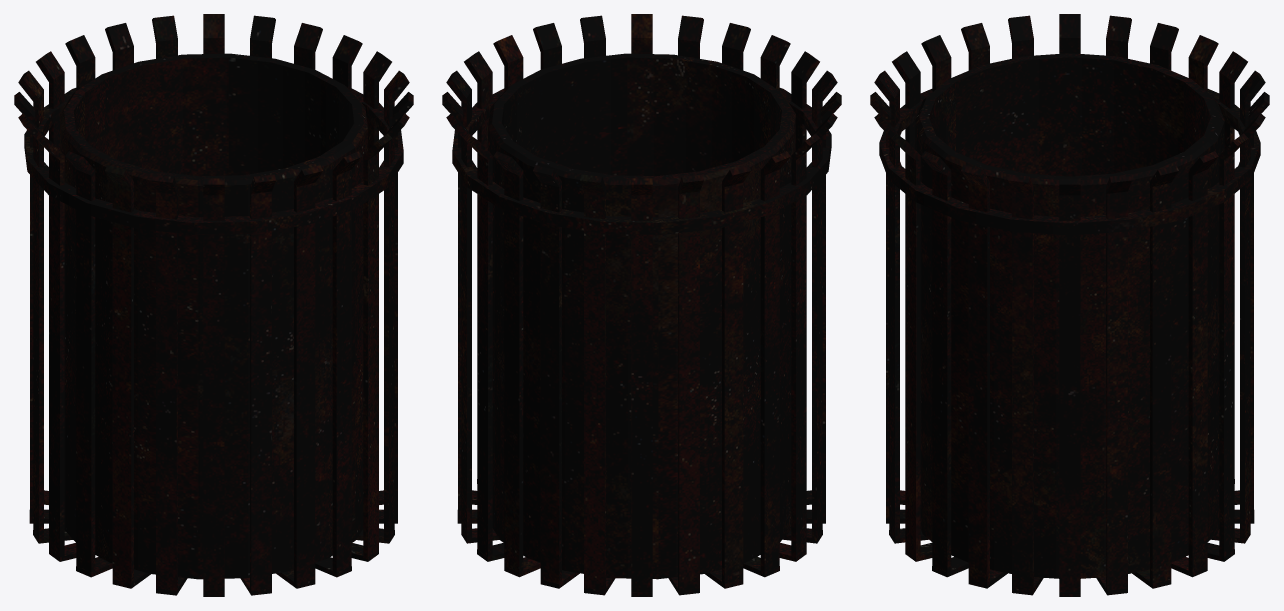
The model's file is trash_can.glb.
The picture shows the model from 3 angles, left to right: view 1: azimuth 30°, elevation 25°; view 2: azimuth 150°, elevation 25°; view 3: azimuth 270°, elevation 25°; orthographic projection.
Parts seen in each view (by area): view 1: inner_container, border1, border3, border8, border9, border2, border10, border7, ring, border4, border, border6 (+2 smaller); view 2: inner_container, border5, border3, border11, border10, border4, border9, border6, ring, border2, border, border7 (+2 smaller); view 3: inner_container, border1, border5, border6, border7, border, border11, border8, ring, border4, border2, border10 (+2 smaller).
Boxes of the visible parts, bbox=[...] form: inner_container: bbox=[60, 53, 367, 579]; border1: bbox=[105, 23, 322, 588]; border3: bbox=[105, 23, 322, 588]; border8: bbox=[152, 15, 275, 595]; border9: bbox=[152, 15, 275, 595]; border2: bbox=[203, 14, 224, 596]; border10: bbox=[65, 35, 362, 577]; border7: bbox=[65, 35, 362, 577]; ring: bbox=[24, 88, 403, 234]; border4: bbox=[36, 51, 392, 561]; border: bbox=[35, 51, 391, 561]; border6: bbox=[18, 70, 409, 543]; inner_container: bbox=[488, 53, 795, 579]; border5: bbox=[533, 23, 750, 588]; border3: bbox=[533, 23, 750, 588]; border11: bbox=[580, 15, 703, 595]; border10: bbox=[580, 15, 703, 595]; border4: bbox=[631, 14, 652, 596]; border9: bbox=[493, 35, 790, 577]; border6: bbox=[493, 35, 790, 577]; ring: bbox=[452, 88, 831, 234]; border2: bbox=[463, 51, 819, 561]; border: bbox=[464, 51, 820, 561]; border7: bbox=[446, 70, 837, 543]; inner_container: bbox=[915, 53, 1224, 578]; border1: bbox=[961, 23, 1178, 588]; border5: bbox=[961, 23, 1178, 588]; border6: bbox=[1008, 15, 1131, 595]; border7: bbox=[1008, 15, 1131, 595]; border: bbox=[1059, 14, 1080, 596]; border11: bbox=[921, 35, 1218, 577]; border8: bbox=[921, 35, 1218, 577]; ring: bbox=[879, 89, 1260, 235]; border4: bbox=[891, 51, 1247, 561]; border2: bbox=[892, 51, 1248, 561]; border10: bbox=[874, 70, 1265, 543].
Bounding box in the file's own units: 0.0248 × 0.029 × 0.0248.
1 material, 1 textured.
